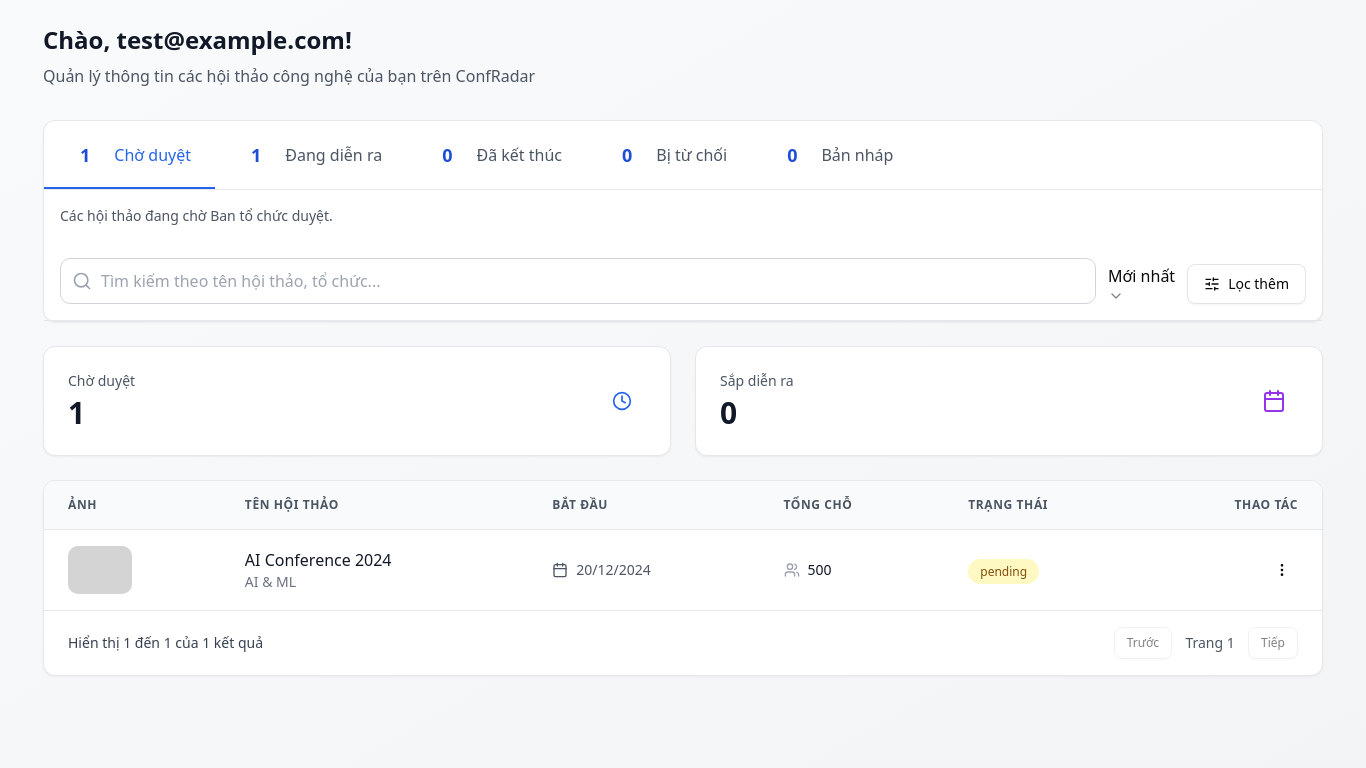
Test case: ConferenceManagementTabs Component › opens filter popover when button clicked
Click the button "Lọc thêm". click: (1247, 284)
box: left=1187, top=264, right=1306, bottom=304
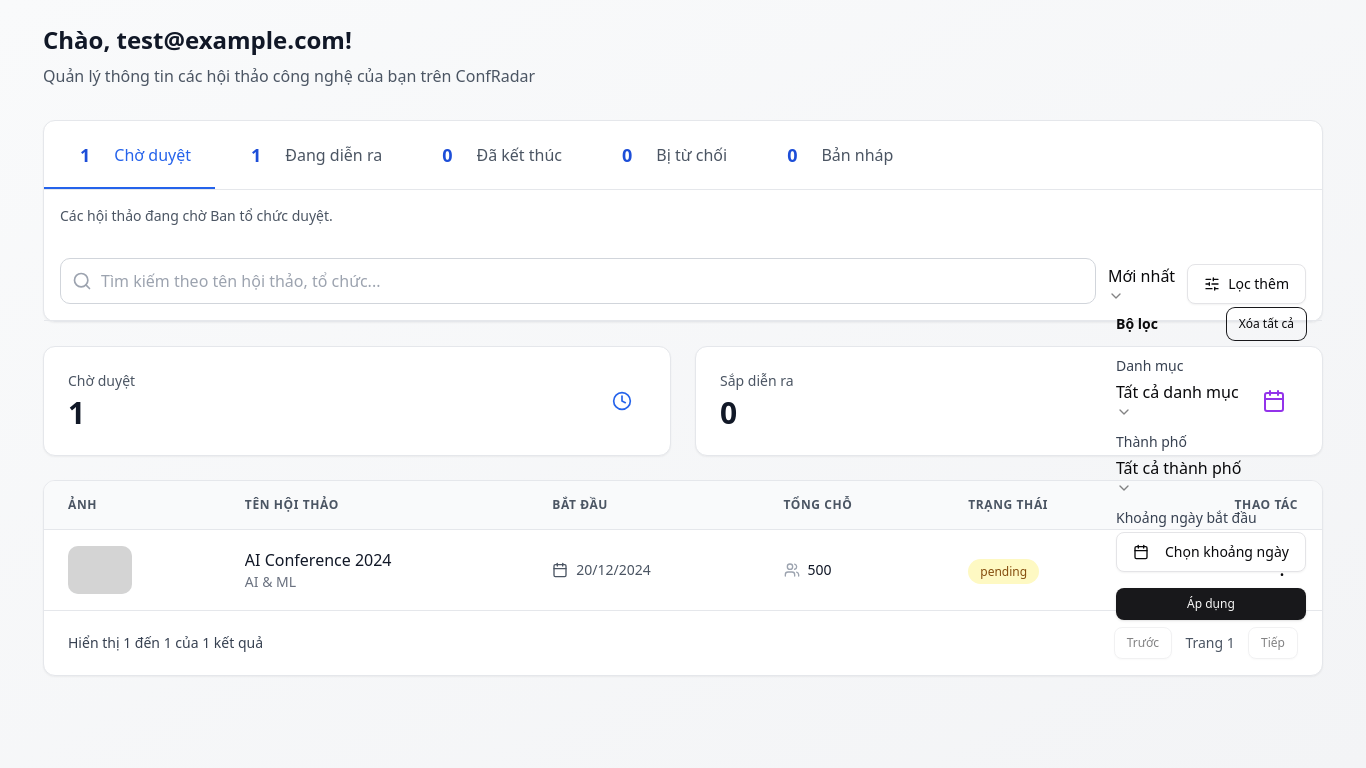
Now the heading "Bộ lọc" is shown, box left=1116, top=314, right=1158, bottom=334
Now the text "Danh mục" is shown, box left=1116, top=356, right=1184, bottom=375
Now the text "Thành phố" is shown, box left=1116, top=432, right=1187, bottom=451
